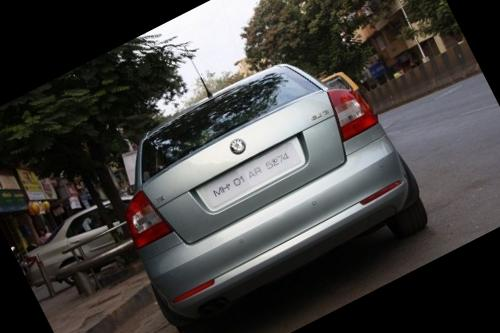plate: (184, 126, 319, 231)
